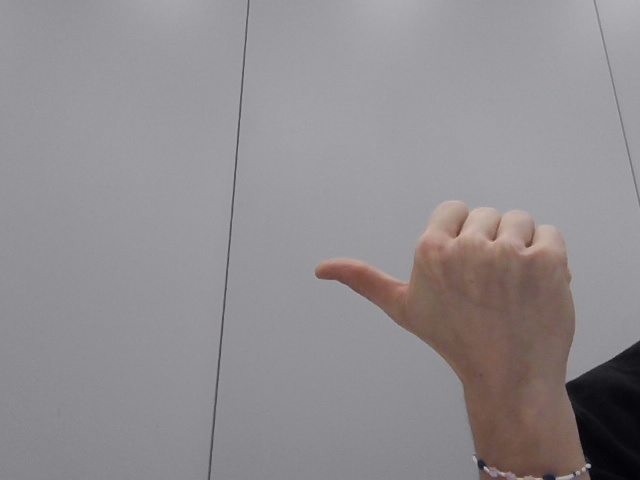right: (302, 188, 591, 439)
